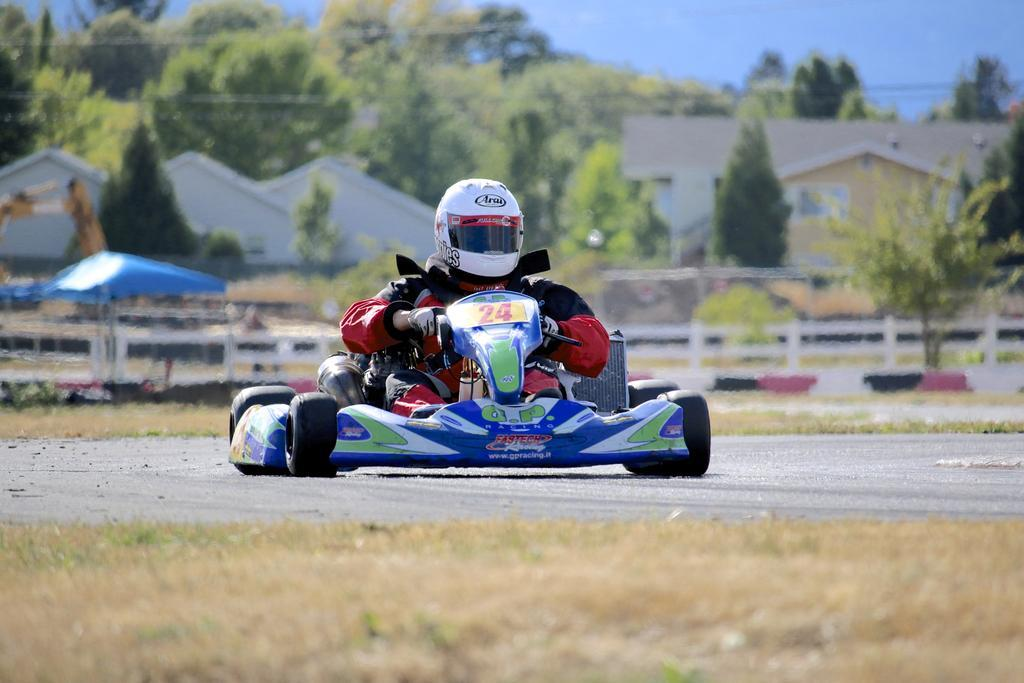helmet: (433, 177, 525, 278)
